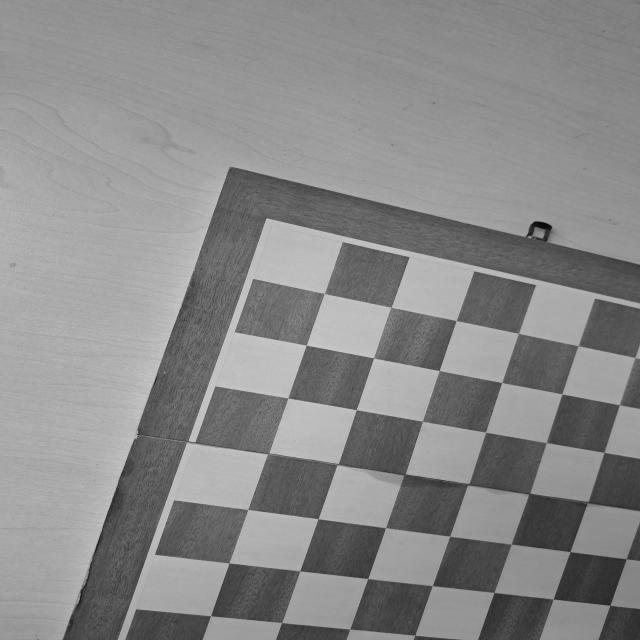chess-table-corners: (256, 213, 288, 238)
